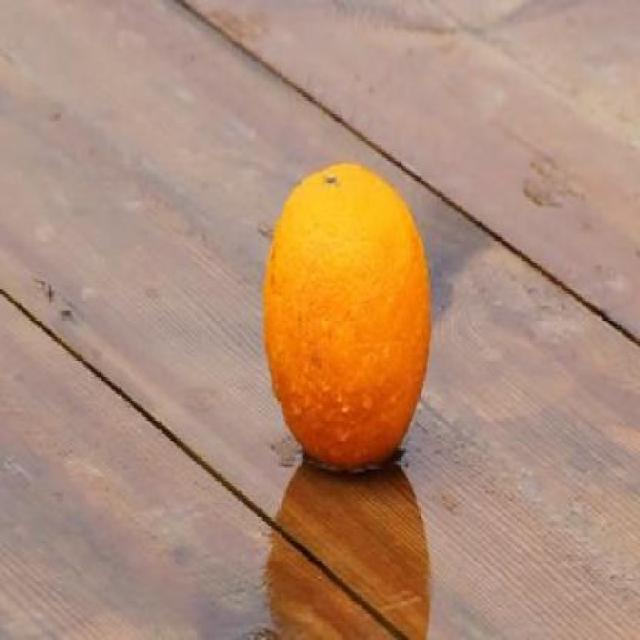Orange: (260, 160, 432, 472)
